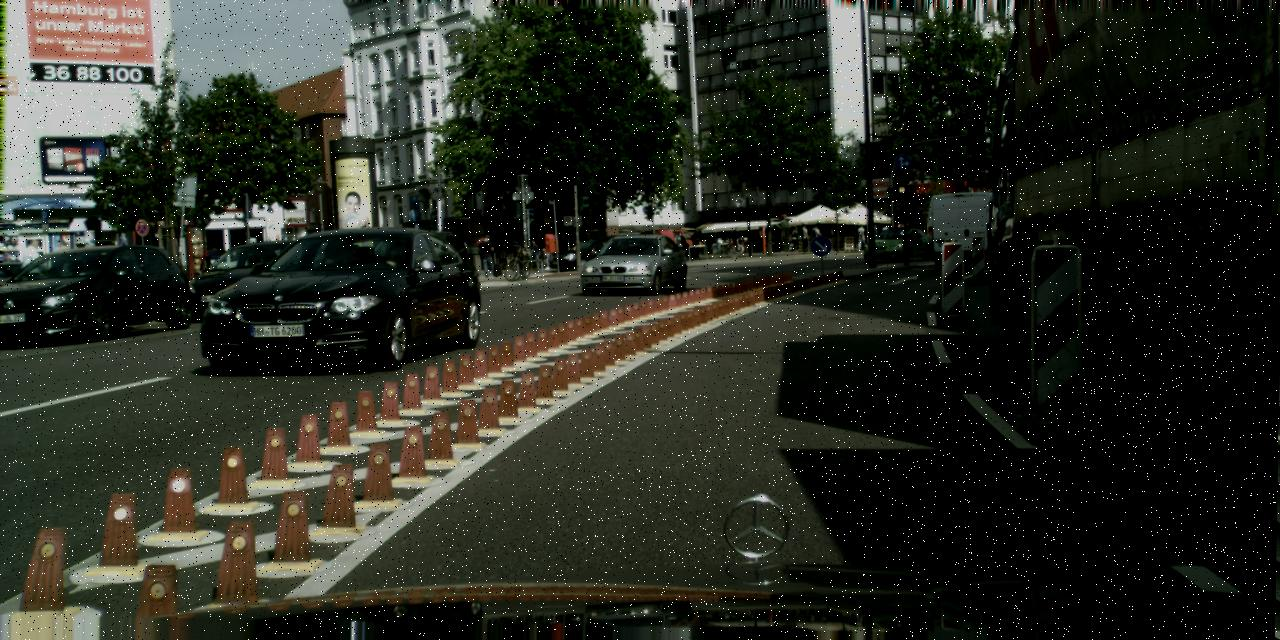ped: (17, 239, 47, 313), (48, 239, 72, 299), (480, 234, 496, 276), (198, 248, 213, 286), (540, 236, 554, 269), (528, 239, 540, 268), (810, 222, 822, 251), (690, 228, 701, 258), (799, 222, 810, 252), (880, 222, 891, 248), (856, 222, 866, 248), (870, 223, 880, 249), (790, 225, 800, 250), (897, 222, 903, 227), (907, 222, 910, 227)
